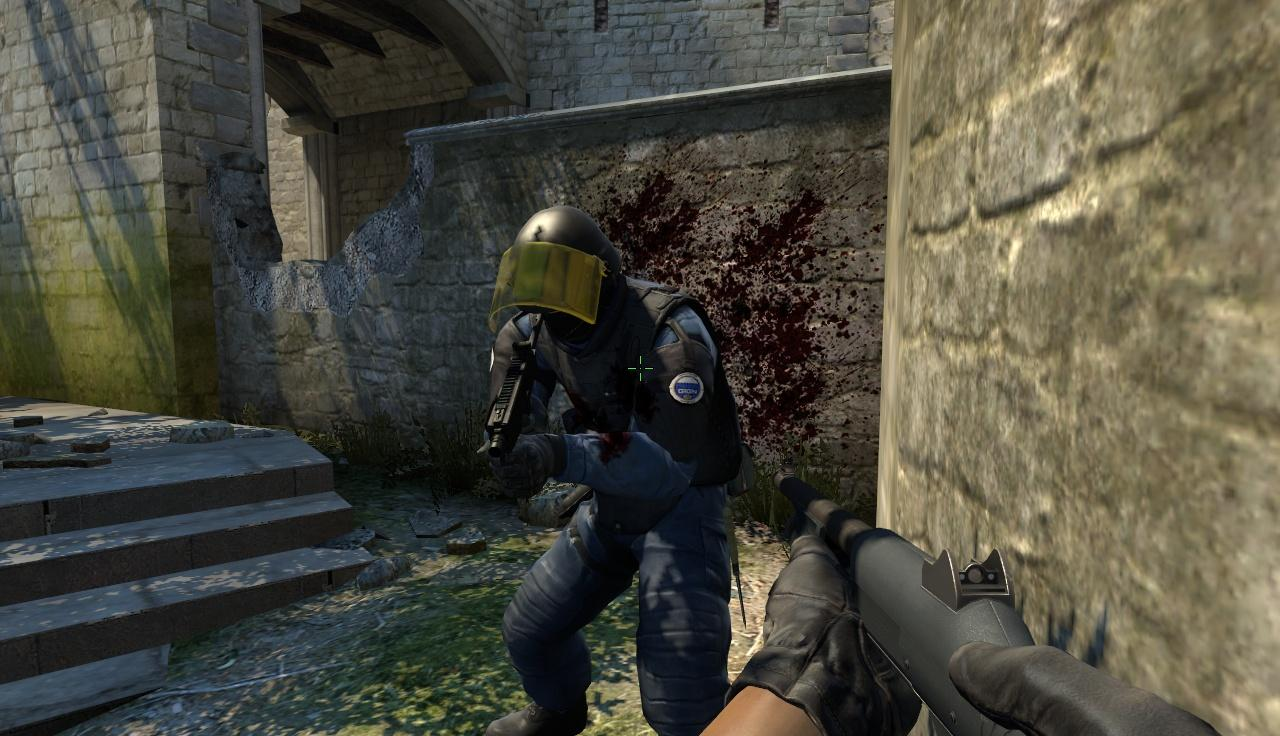ct: (496, 207, 725, 736)
cthead: (500, 210, 611, 325)
shotgun: (769, 478, 1135, 736)
